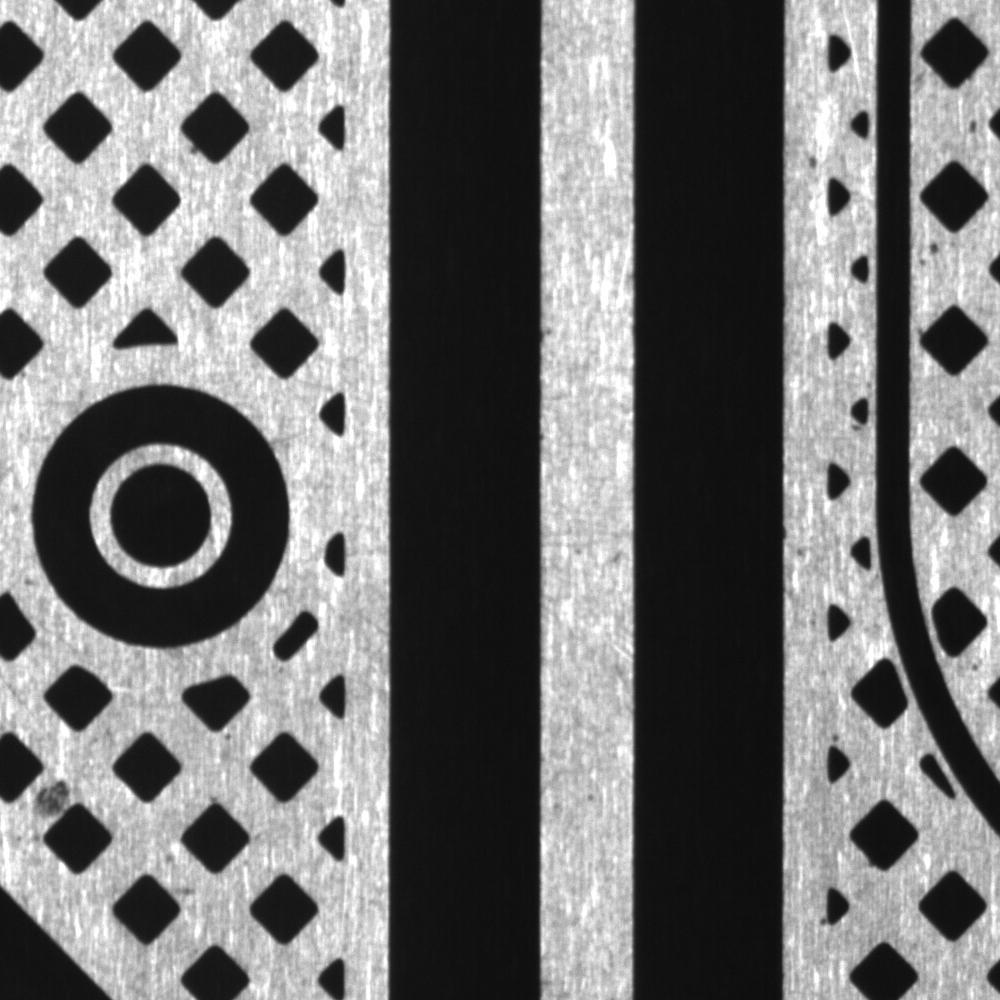Discolor: (31, 769, 72, 821)
Etching: (566, 530, 631, 586), (535, 310, 570, 352)
Pinhole: (582, 784, 602, 808)
